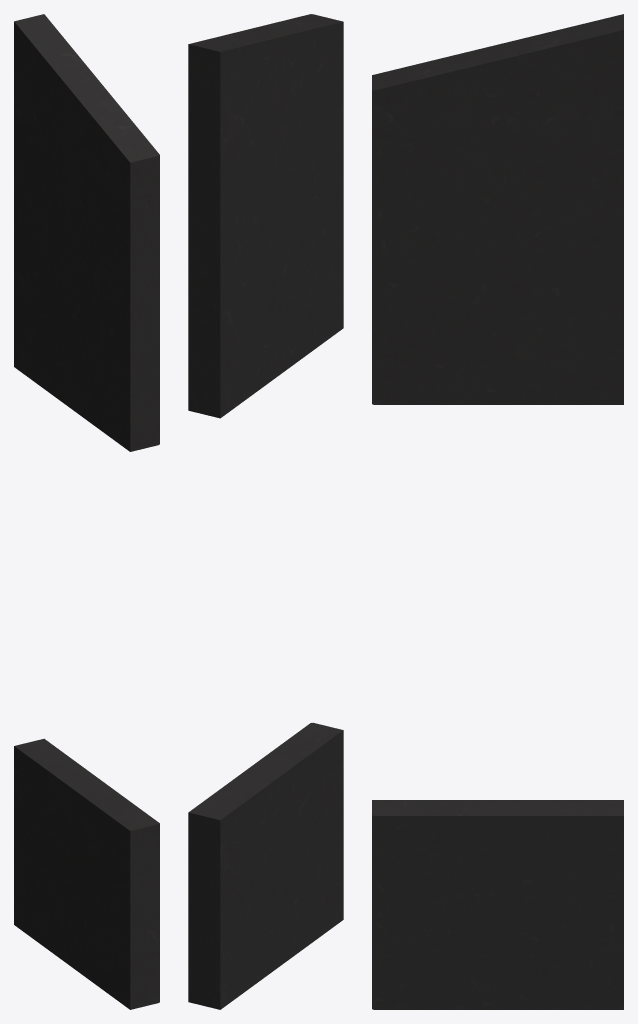
Rendered from A13.1.1 H.WALL. PNL 1642 UP + 850 DWN E2.fbx.
3 views of the same model, side by side, from view 1: azimuth 30°, elevation 25°; view 2: azimuth 150°, elevation 25°; view 3: azimuth 270°, elevation 25° (orthographic). The views are drawn at different scales.
Parts seen in each view (by area): view 1: Model, Group1; view 2: Model, Group1; view 3: Model, Group1.
Boxes of the visible parts, bbox=[...] form: Model: bbox=[14, 14, 159, 451]; Group1: bbox=[14, 738, 159, 1009]; Model: bbox=[188, 14, 343, 418]; Group1: bbox=[188, 722, 343, 1009]; Model: bbox=[372, 14, 623, 404]; Group1: bbox=[372, 800, 623, 1009].
Size of the model in its own units: 150 by 4292 by 1000.
